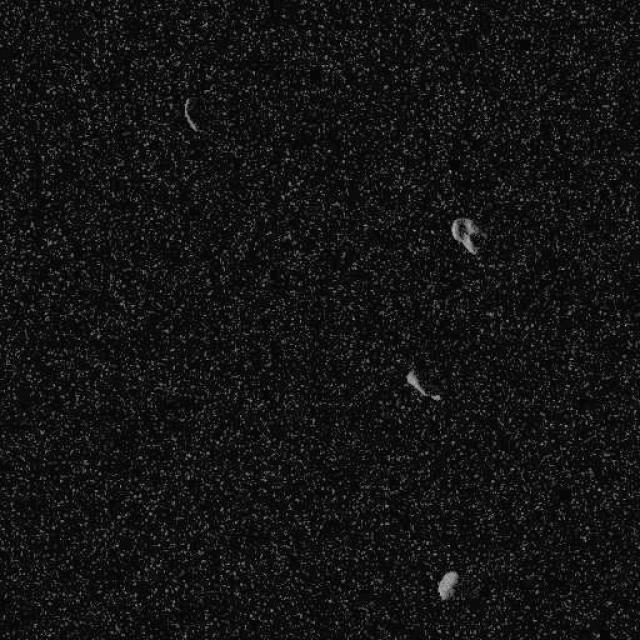D2: (450, 216, 485, 255), (403, 368, 442, 402), (181, 95, 201, 134), (436, 569, 459, 600)
